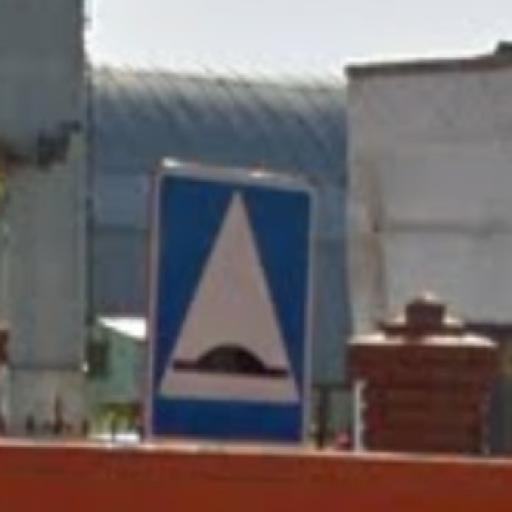traffic_sign: (146, 165, 320, 451)
